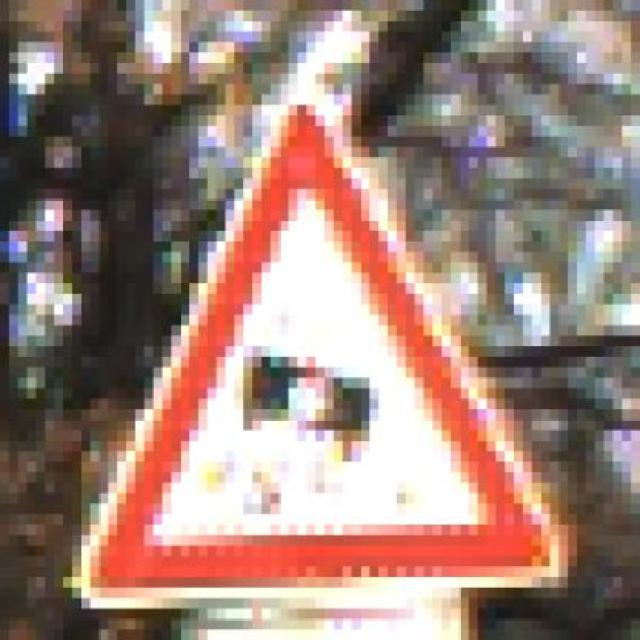Slippery Road Ahead: (63, 94, 586, 608)
